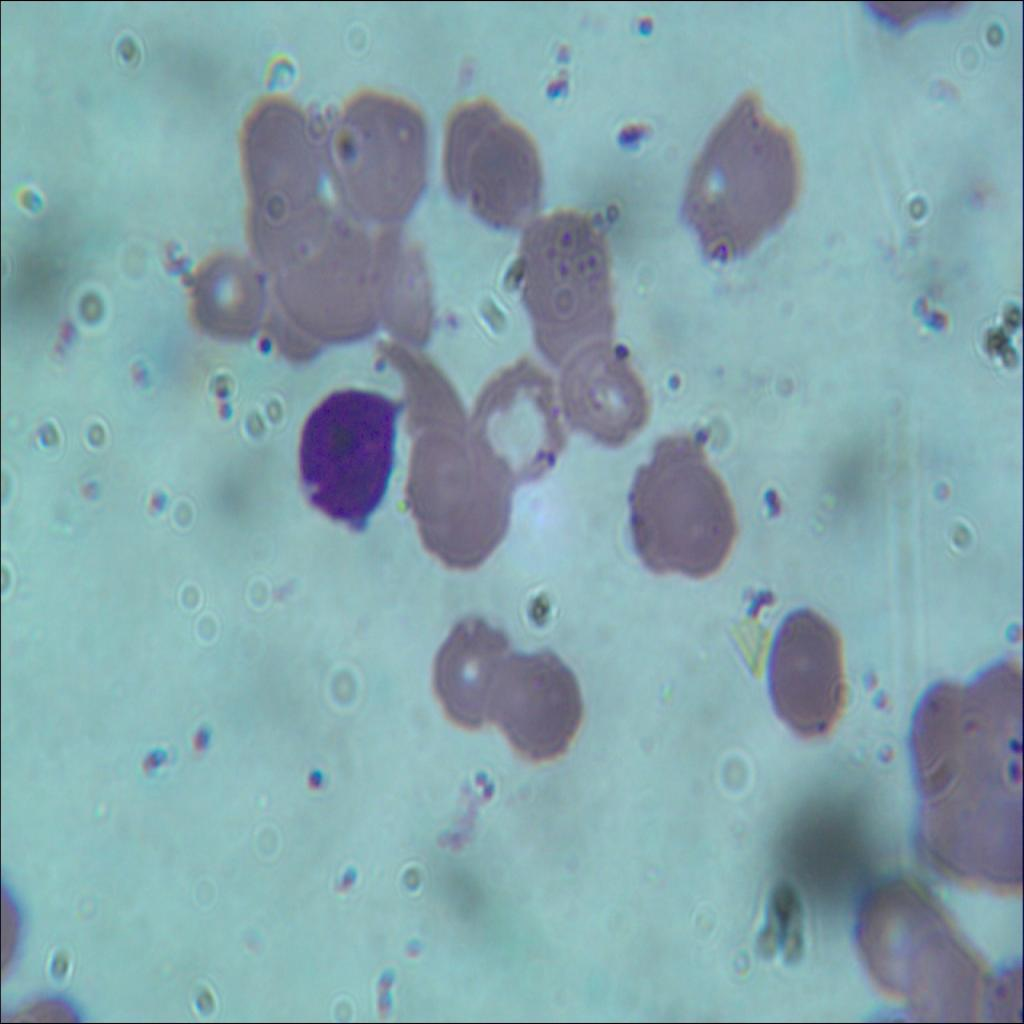Eritrosit: (684, 94, 796, 252), (329, 88, 441, 228), (628, 438, 735, 582), (841, 867, 953, 992), (486, 639, 589, 768), (762, 601, 856, 739), (520, 274, 622, 387), (428, 608, 516, 738), (416, 455, 509, 572), (515, 211, 606, 321), (280, 233, 375, 337), (478, 358, 560, 478), (560, 338, 651, 444), (240, 95, 326, 205), (363, 224, 440, 346), (958, 661, 1024, 798), (180, 248, 271, 346), (470, 118, 546, 232), (244, 184, 334, 280), (391, 346, 474, 444), (914, 680, 986, 790), (403, 425, 476, 526), (918, 774, 988, 876), (906, 935, 986, 1023), (966, 776, 1024, 890), (442, 95, 504, 197)
Limfoblast: (292, 388, 398, 528)
Platelet: (921, 299, 961, 351), (190, 721, 224, 771), (746, 581, 786, 622), (756, 475, 788, 526), (142, 740, 170, 790), (298, 758, 329, 801), (604, 331, 634, 372), (706, 232, 734, 274), (546, 36, 580, 70), (616, 118, 643, 158), (123, 360, 153, 392), (542, 76, 572, 108), (54, 316, 80, 352), (664, 360, 686, 399), (472, 762, 494, 801), (250, 334, 276, 366), (876, 735, 900, 769), (871, 695, 900, 722), (553, 248, 576, 282), (635, 12, 656, 45), (438, 308, 461, 338), (366, 346, 386, 380), (688, 419, 709, 451), (329, 862, 351, 891), (1004, 755, 1023, 784), (582, 247, 604, 272), (540, 440, 558, 470), (144, 485, 163, 511), (554, 225, 572, 252), (864, 665, 881, 691), (1010, 728, 1024, 754), (218, 402, 228, 425)
